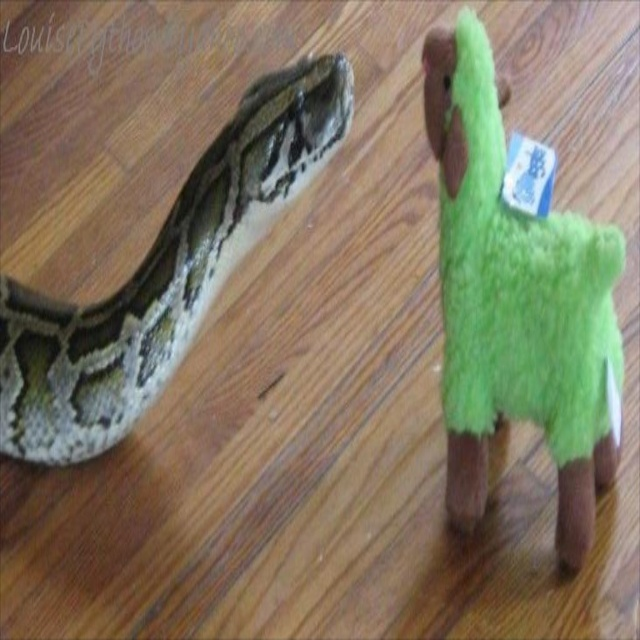Snake: (0, 50, 355, 471)
